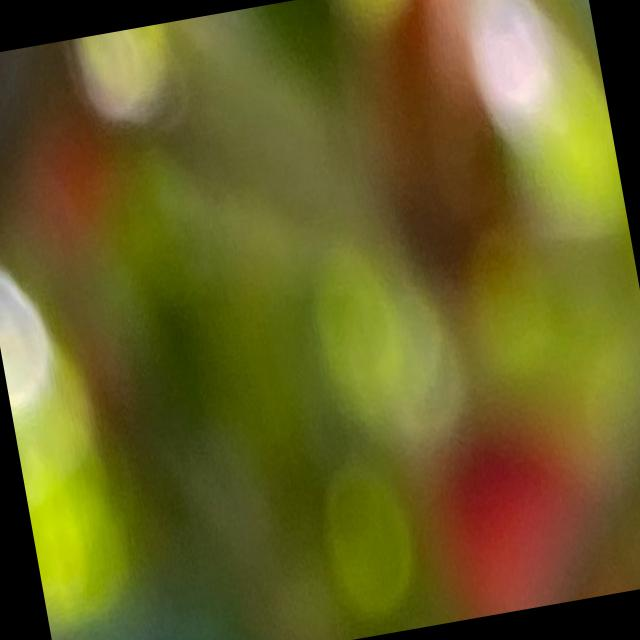Apples: (425, 409, 605, 619)
